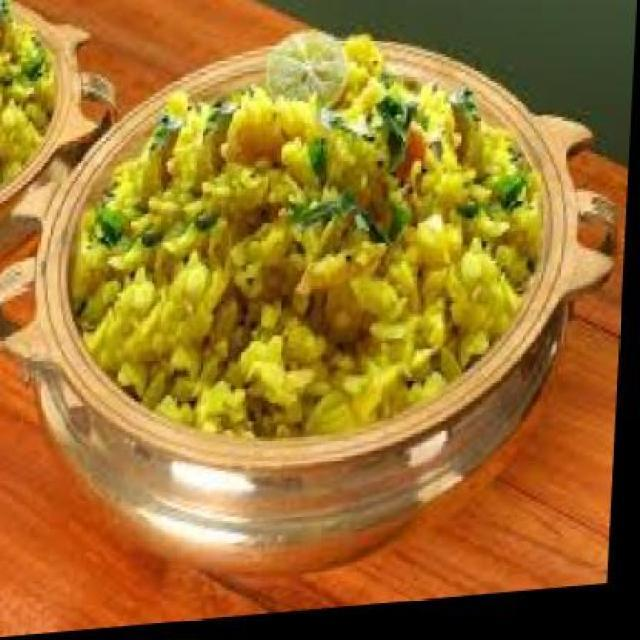poha: (63, 20, 554, 462), (0, 0, 60, 194)
